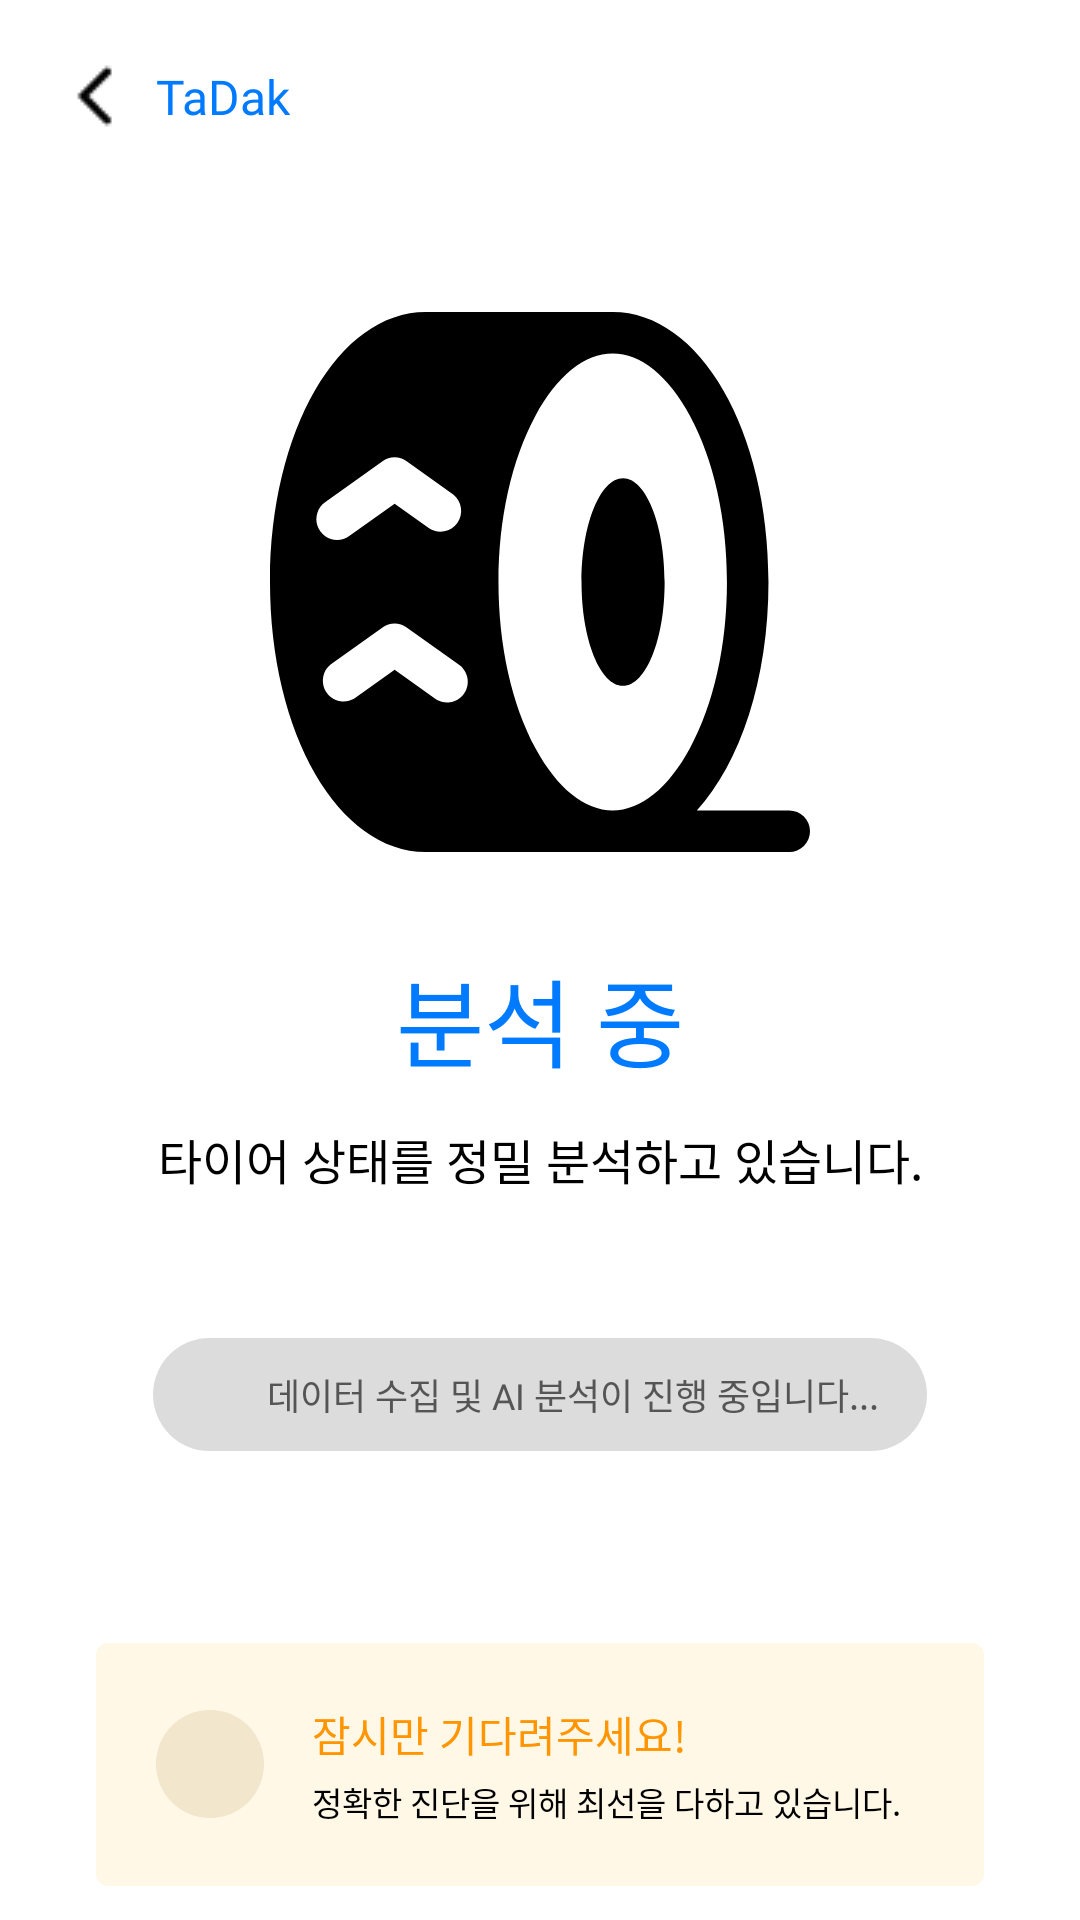

Where icons sit on this 1080 x 1920 app screen, as (left=x1, top=y1, right=x2, bottom=y2):
back: (left=77, top=65, right=112, bottom=127)
